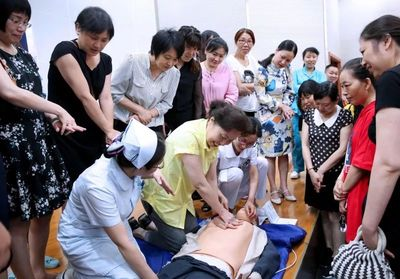fall: (122, 195, 281, 279)
